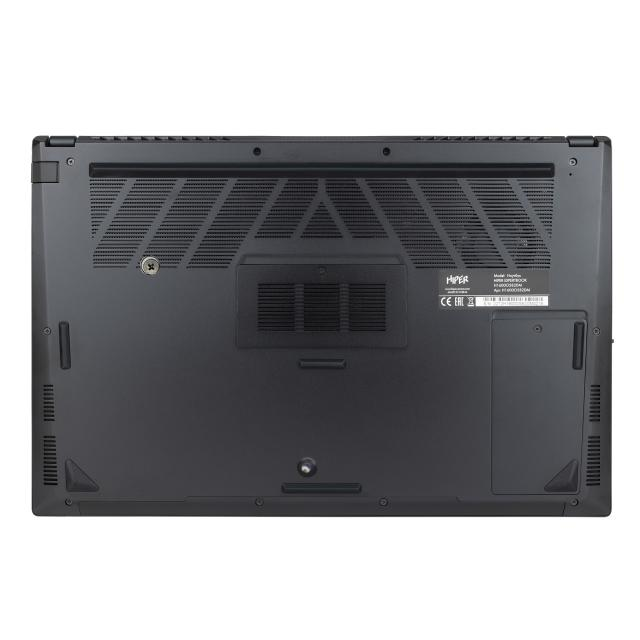lock: (140, 255, 160, 276)
missing_screw: (297, 456, 318, 477)
